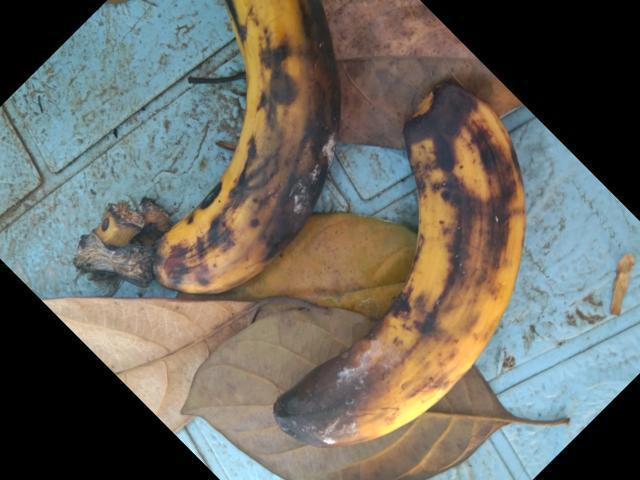rotten: (275, 67, 536, 452), (139, 0, 346, 306)
